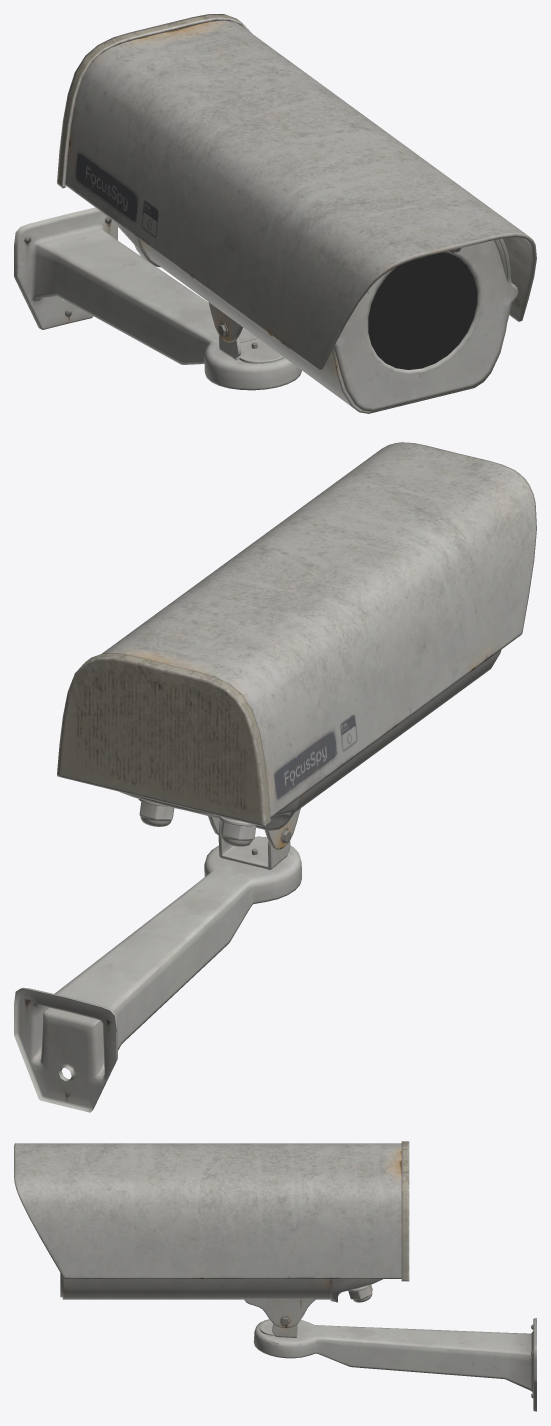
Rendered from cctv-camera.glb.
The picture shows the model from 3 angles, top to bottom: view 1: azimuth 30°, elevation 25°; view 2: azimuth 150°, elevation 25°; view 3: azimuth 270°, elevation 25°; orthographic projection. The views are drawn at different scales.
Visible parts, largest first — view 1: security_camera_01; view 2: security_camera_01; view 3: security_camera_01.
Part boxes in pixels (left/top/right/bottom): security_camera_01: left=14, top=14, right=536, bottom=413; security_camera_01: left=14, top=442, right=536, bottom=1112; security_camera_01: left=14, top=1141, right=536, bottom=1411.
Size of the model in its own units: 0.1695 by 0.2861 by 0.5537.
Materials: 2 (2 with a texture image).
